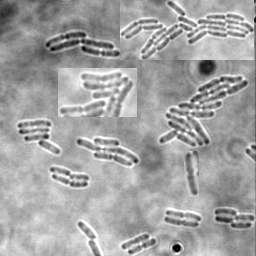Dividing: (184, 151, 199, 197), (52, 175, 89, 189), (128, 238, 157, 255), (166, 209, 202, 222), (164, 217, 200, 228)
Microcolony: (120, 0, 254, 60), (158, 76, 249, 147), (58, 68, 137, 117), (76, 137, 139, 168), (45, 32, 120, 57), (18, 120, 61, 155), (214, 208, 255, 229)
Rod: (121, 233, 150, 251), (78, 222, 99, 240), (50, 167, 72, 177), (69, 174, 90, 183)
